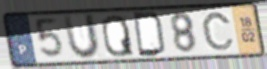5: (32, 17, 66, 61)
8: (169, 11, 200, 55)
C: (200, 11, 236, 52)
D: (131, 11, 168, 59)
Q: (100, 14, 136, 59)
U: (61, 12, 102, 61)
